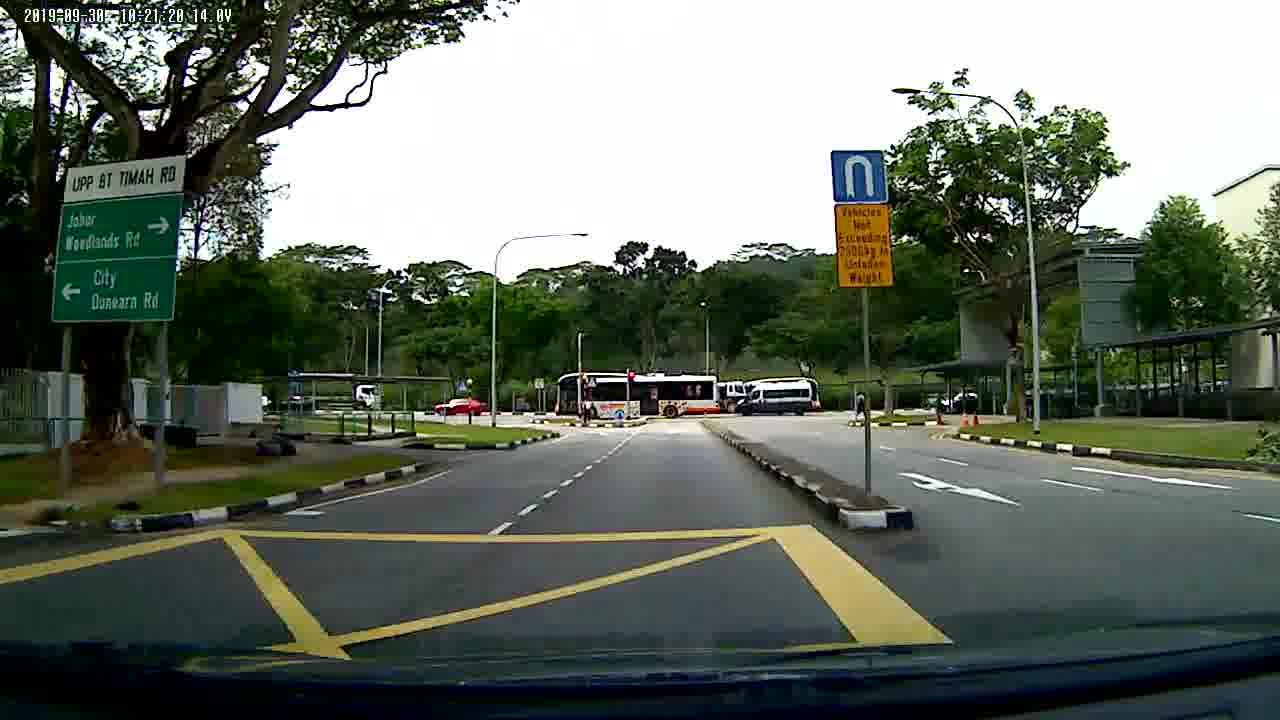bus: (551, 372, 722, 420)
car: (430, 398, 487, 416)
